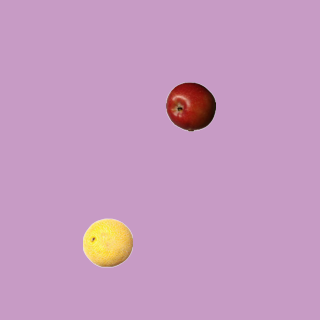Apple Braeburn: (165, 81, 215, 131)
Cantaloupe 1: (82, 217, 132, 267)
